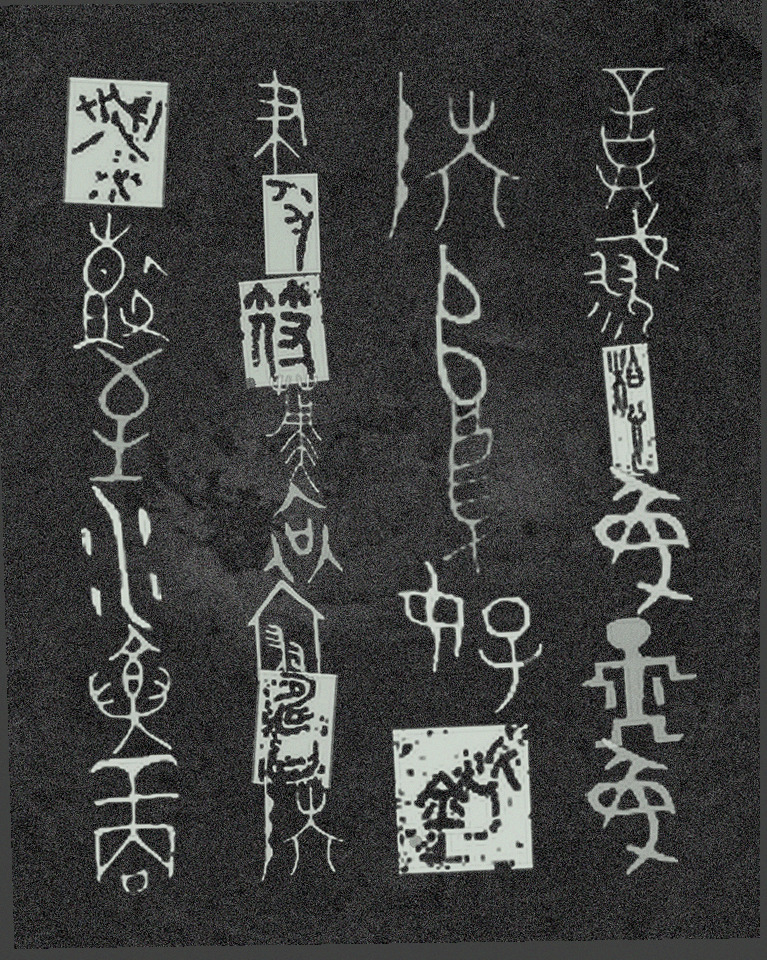char: (391, 556, 546, 721), (383, 65, 525, 244), (388, 719, 538, 880), (589, 461, 696, 621), (577, 613, 700, 752), (58, 71, 176, 213), (65, 208, 174, 355), (580, 196, 684, 346), (581, 733, 681, 882), (87, 750, 186, 899), (78, 343, 171, 490), (82, 620, 178, 759), (435, 388, 502, 579), (79, 482, 163, 634), (246, 665, 344, 795), (593, 62, 673, 214), (234, 270, 333, 392), (429, 239, 491, 413), (255, 773, 348, 885), (596, 338, 665, 485), (259, 478, 345, 587), (244, 576, 328, 684), (262, 371, 327, 496), (260, 170, 324, 278), (250, 67, 309, 179)
